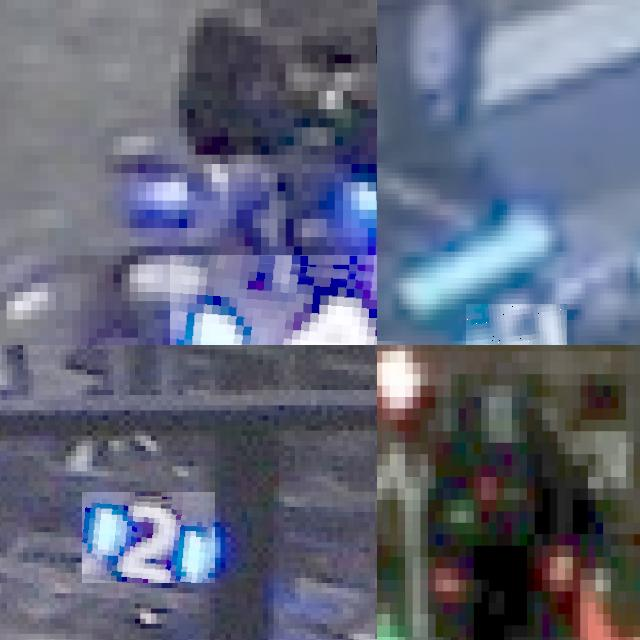B2: (82, 492, 215, 583)
B4: (170, 255, 377, 345)
B5: (466, 304, 566, 345)
